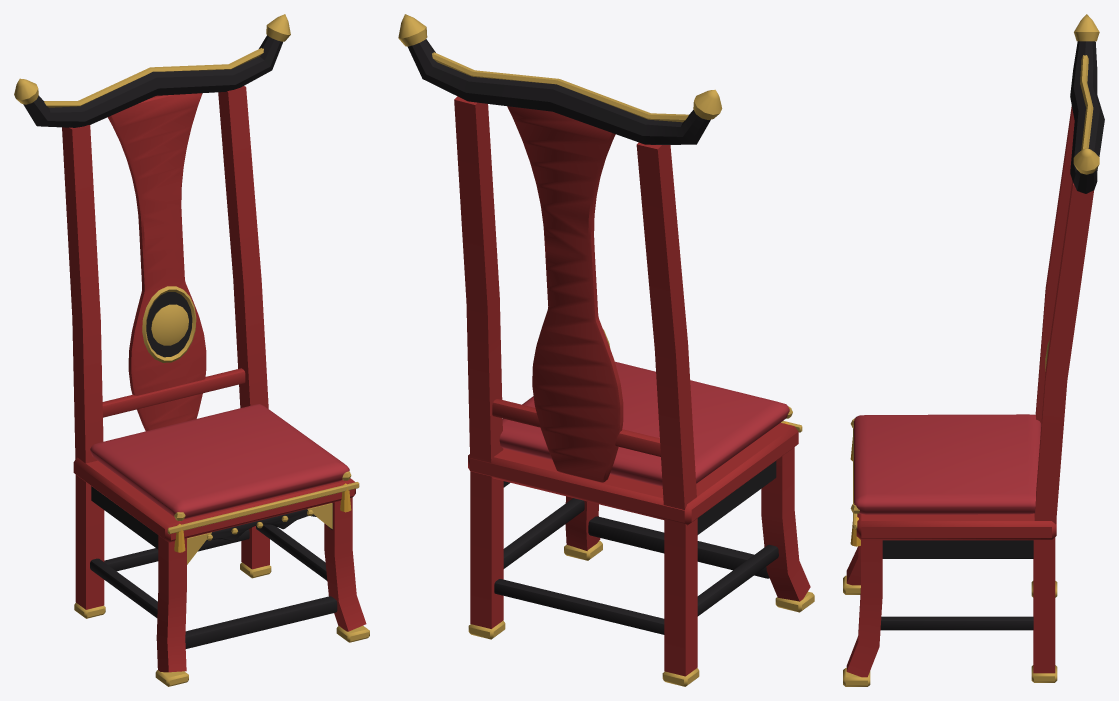
Rendered from deco_chair_carved.fbx.
The picture shows the model from 3 angles, left to right: view 1: azimuth 30°, elevation 25°; view 2: azimuth 150°, elevation 25°; view 3: azimuth 270°, elevation 25°; orthographic projection. The views are drawn at different scales.
Parts seen in each view (by area): view 1: Chair_Carved_Chair, Chair_Carved_Cushion, Chair_Carved_Trim; view 2: Chair_Carved_Chair, Chair_Carved_Cushion, Chair_Carved_Trim; view 3: Chair_Carved_Chair, Chair_Carved_Cushion, Chair_Carved_Trim.
Part boxes in pixels (x1,y1,x2,y2): Chair_Carved_Chair: (23, 35, 366, 672); Chair_Carved_Cushion: (90, 404, 351, 552); Chair_Carved_Trim: (14, 14, 369, 686); Chair_Carved_Chair: (408, 39, 810, 676); Chair_Carved_Cushion: (499, 361, 792, 486); Chair_Carved_Trim: (398, 14, 814, 686); Chair_Carved_Chair: (846, 41, 1104, 677); Chair_Carved_Cushion: (850, 414, 1041, 546); Chair_Carved_Trim: (843, 14, 1099, 686).
Size of the model in its own units: 109 by 202 by 86.49.
